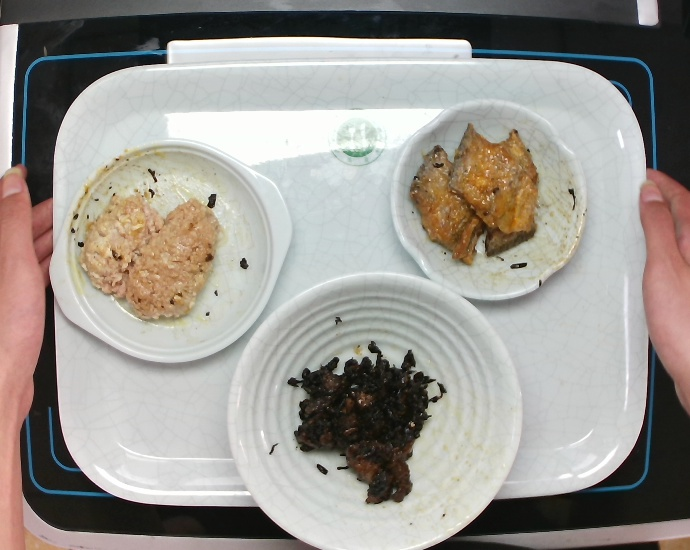JYsf-Ao_Yuan_Wan: (380, 91, 592, 308)
JYsf-Shuang_Er_Pan: (45, 134, 305, 369)
JYsf-Xiao_Tang_Wan: (223, 263, 533, 550)
